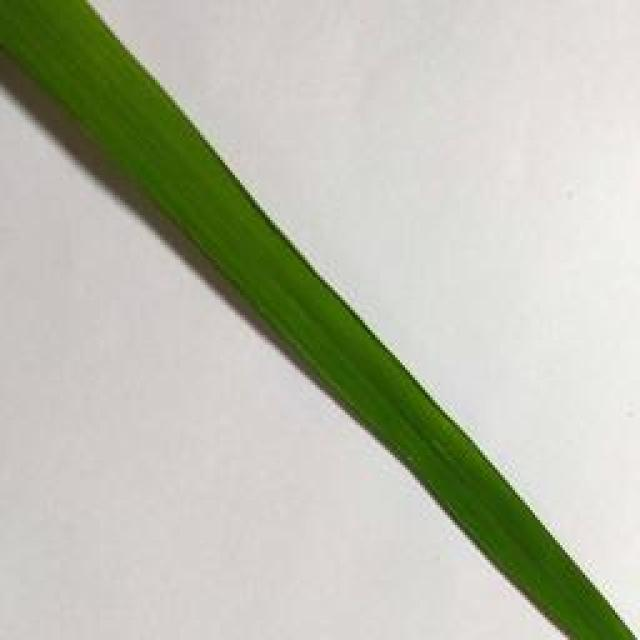Healthy: (0, 0, 638, 640)
